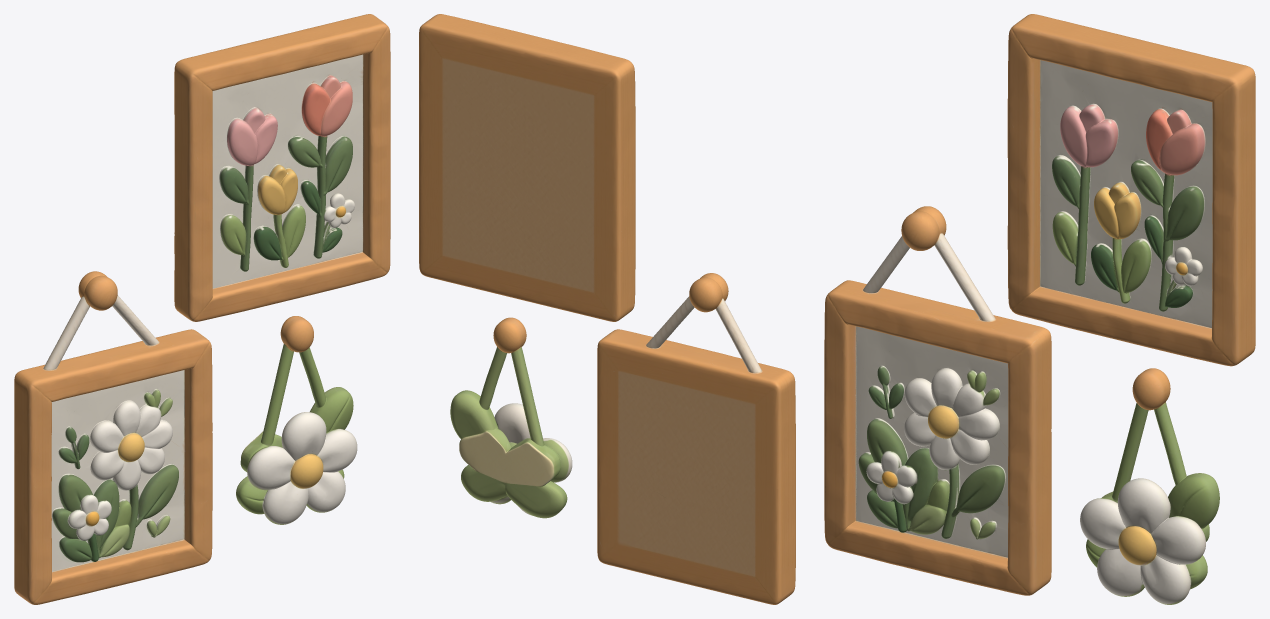
The model's file is floral-wall-art.glb.
3 views of the same model, side by side, from view 1: azimuth 30°, elevation 25°; view 2: azimuth 150°, elevation 25°; view 3: azimuth 330°, elevation 25° (orthographic). The views are drawn at different scales.
Size of the model in its own units: 1.45 by 1.9 by 0.1865.
1 material, 1 textured.
